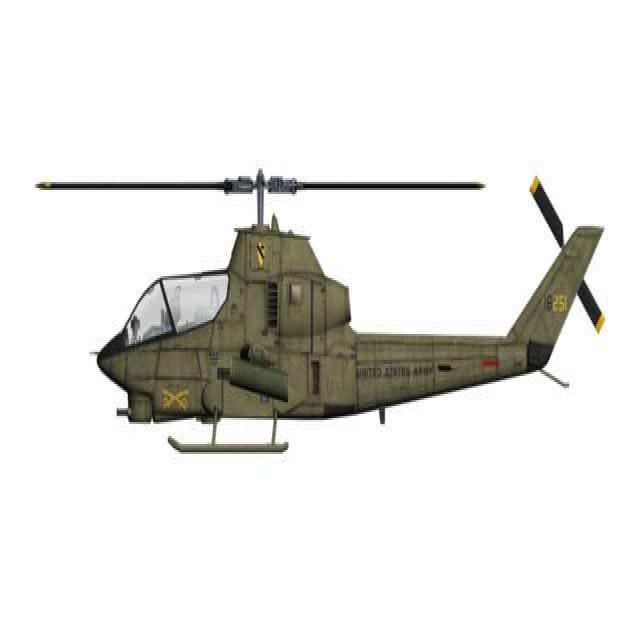MIL_HELO: (27, 143, 603, 477)
